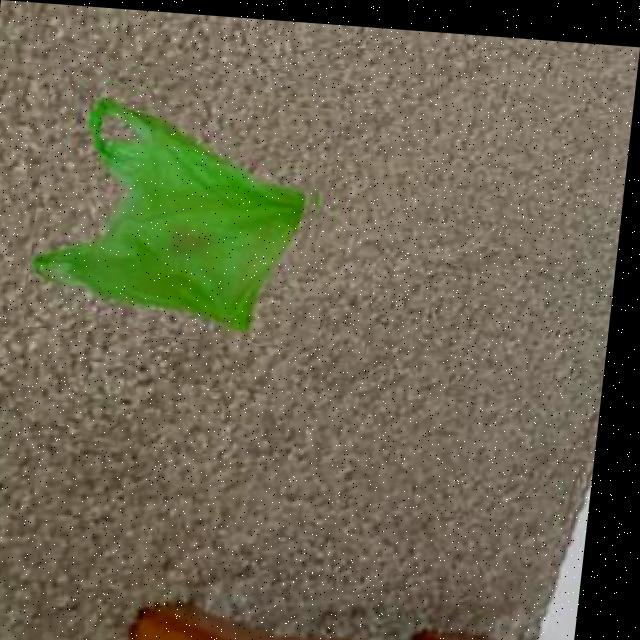litter: (30, 44, 344, 342)
